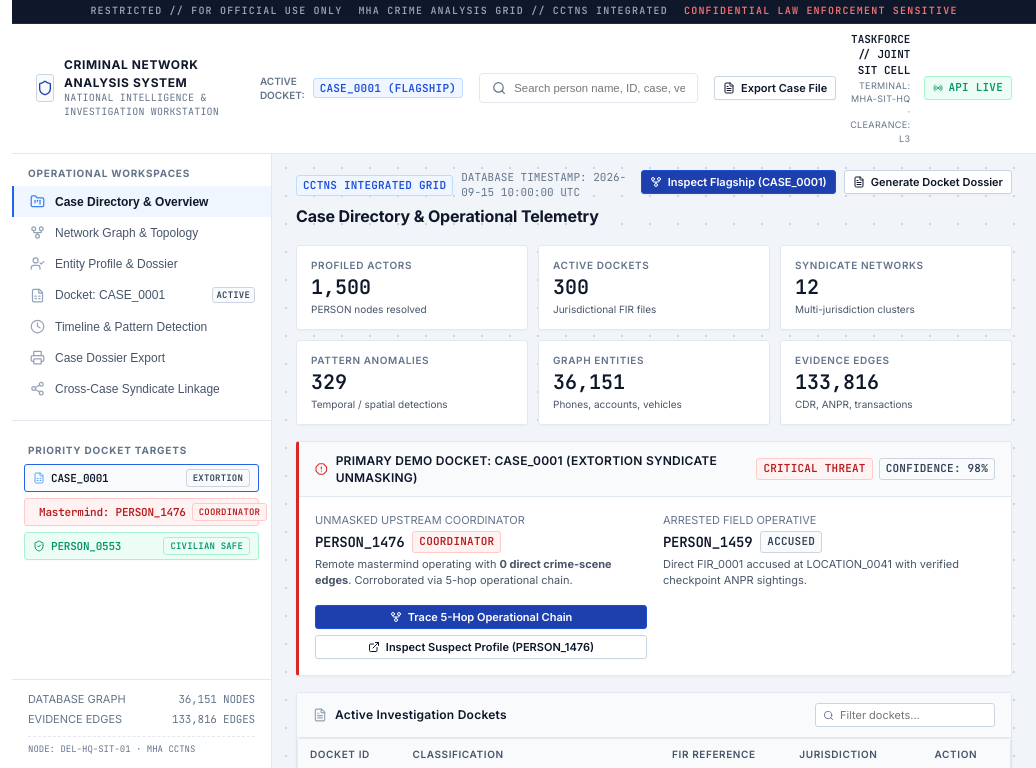
Test: SIH26189 Tactical Workstation Frontend Test Suite › navigates to Network Graph view and displays topology nodes
# Navigate to Graph tab
Click the button with test id "nav-graph": [142, 232] box x1=12 y1=217 x2=271 y2=248
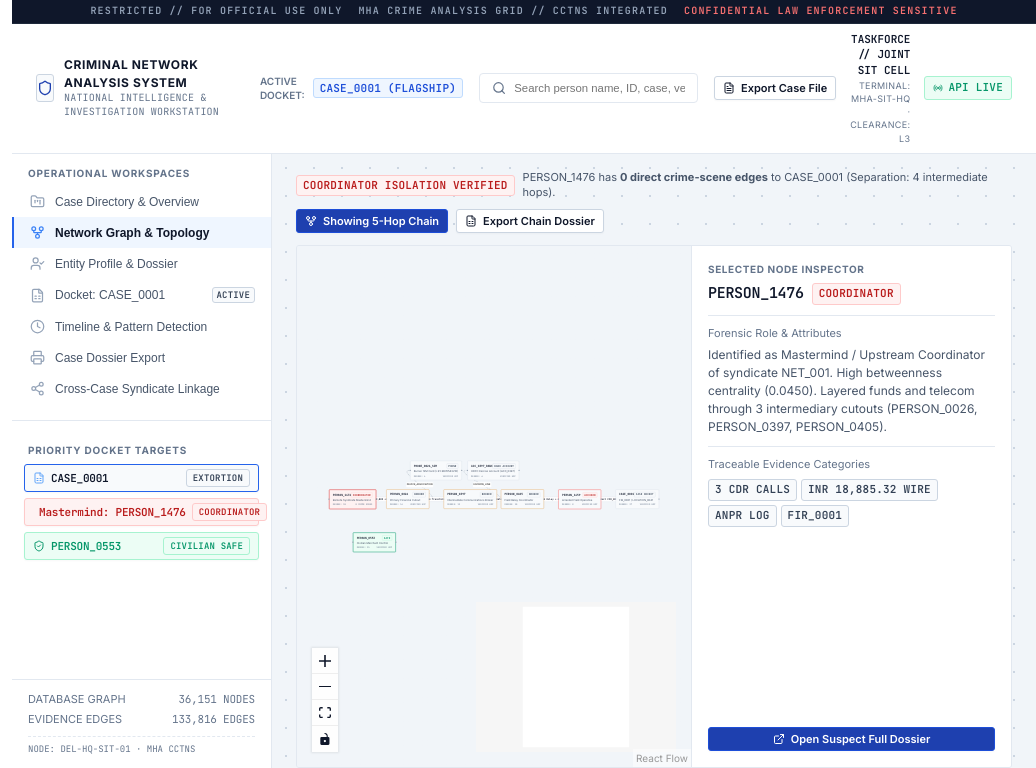
Expected: the text "0 direct crime-scene edges" is shown, x1=620 y1=170 x2=768 y2=184
Now the text "COORDINATOR ISOLATION VERIFIED" is shown, box x1=296 y1=174 x2=515 y2=196
